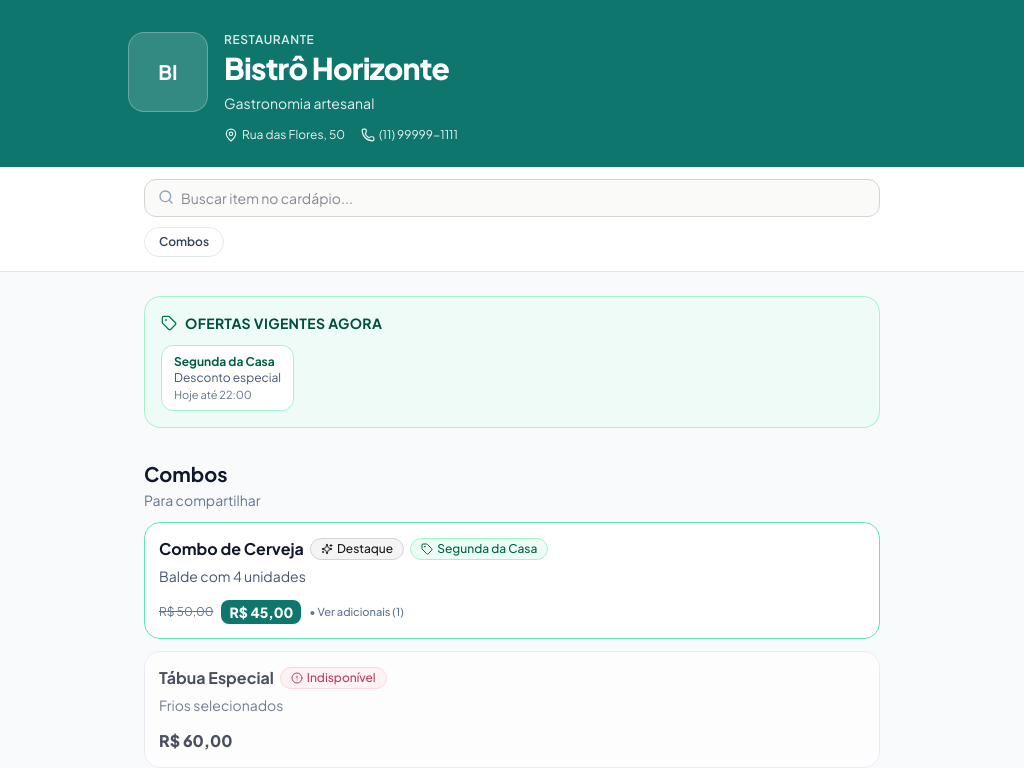
PublicMenuPage › renderiza cardápio, promoções, adicionais e NÃO exibe carrinho, compra ou checkout
This screenshot has width=1024, height=768.
Expected: the heading "Bistrô Horizonte" is shown, x1=224 y1=49 x2=449 y2=87
Expected: the heading "Ofertas vigentes agora" is shown, x1=185 y1=313 x2=382 y2=333
Abrir detalhes do produto e conferir adicionais
Click the heading "Combo de Cerveja".
click(231, 549)  # box x1=159 y1=537 x2=304 y2=561
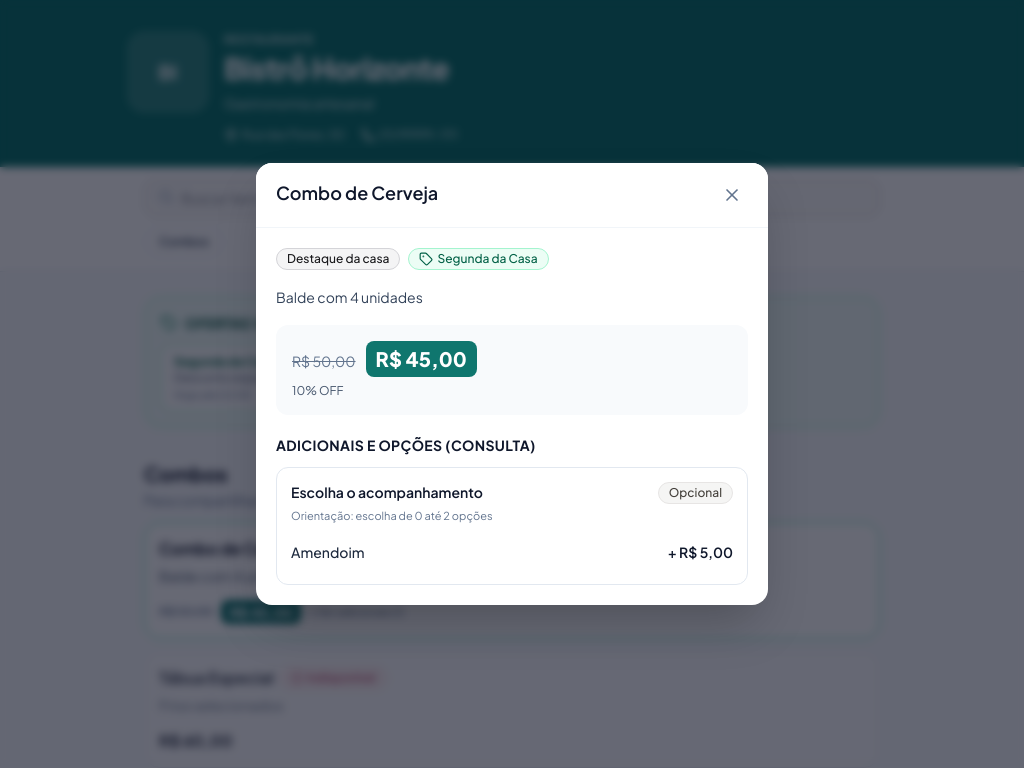
Now the heading "Escolha o acompanhamento" is shown, box x1=291 y1=482 x2=483 y2=502
Now the text "Amendoim" is shown, box x1=291 y1=542 x2=364 y2=562
Now the text "+ R$ 5,00" is shown, box x1=668 y1=542 x2=733 y2=562
